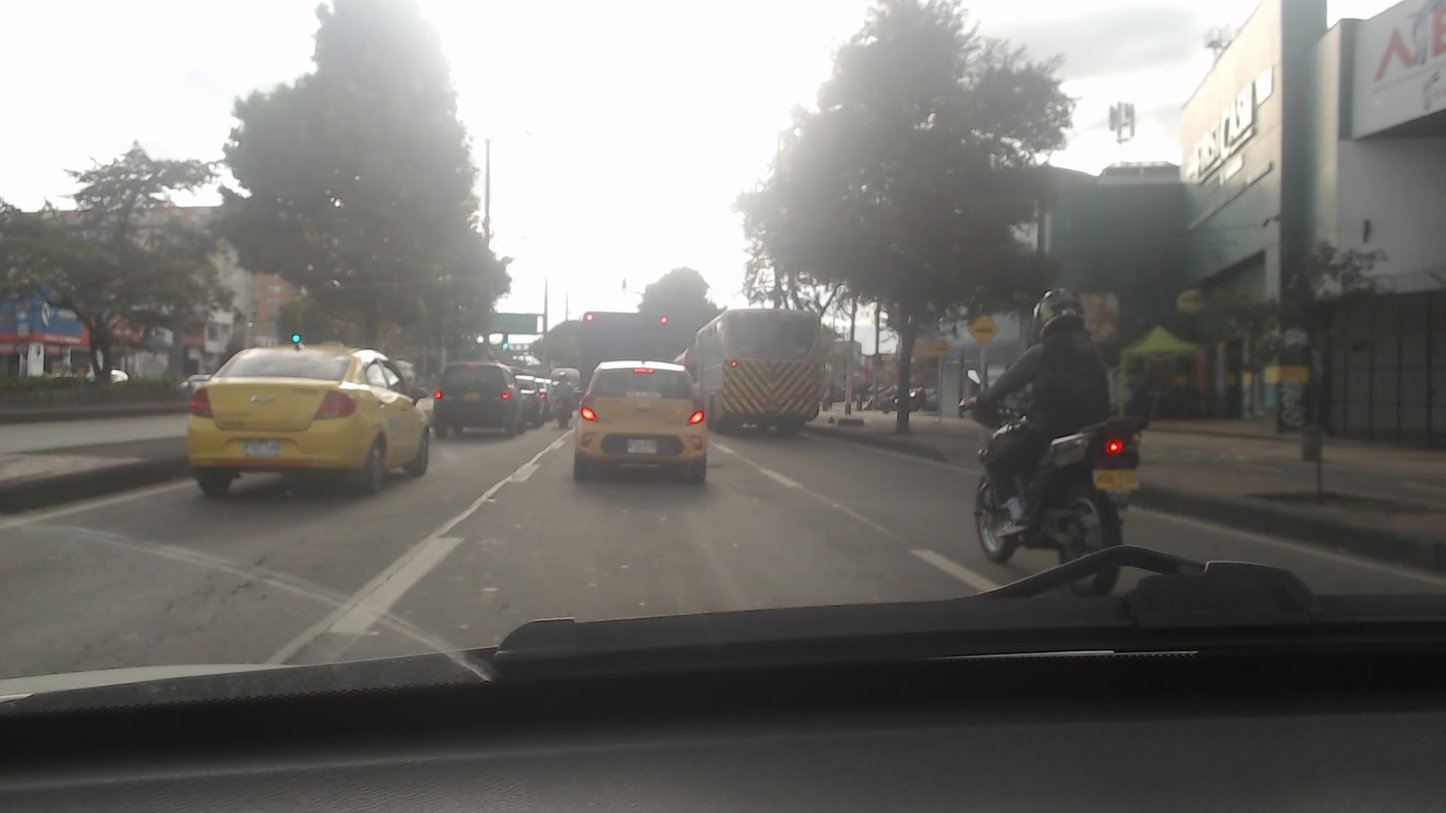bus: (688, 311, 825, 432)
car: (188, 344, 433, 497), (570, 362, 712, 485), (437, 357, 521, 441), (511, 374, 544, 423)
motorcycle: (952, 392, 1153, 594), (552, 397, 574, 427)
person: (965, 294, 1113, 521), (550, 371, 575, 397)
truck: (581, 304, 674, 364)
